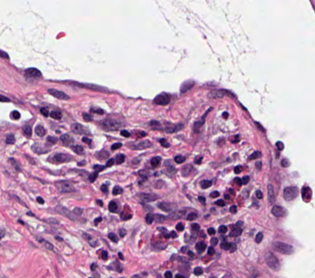nucleus: (101, 118, 123, 130), (48, 88, 69, 99), (55, 206, 73, 218), (51, 153, 71, 163), (283, 186, 297, 200), (130, 140, 151, 149), (83, 233, 97, 246), (153, 93, 169, 104), (56, 182, 73, 192), (208, 89, 229, 97), (25, 68, 41, 78), (71, 123, 87, 133), (32, 143, 48, 153), (39, 238, 53, 249), (138, 193, 157, 201), (301, 186, 311, 201), (164, 124, 182, 132), (60, 134, 73, 145), (193, 118, 203, 132), (271, 206, 285, 216), (181, 81, 193, 92), (267, 184, 274, 202), (158, 202, 171, 211), (35, 125, 45, 136), (150, 156, 160, 167), (181, 164, 191, 175), (49, 110, 61, 119), (96, 150, 108, 159), (72, 145, 83, 154), (230, 227, 241, 236), (108, 201, 117, 211), (248, 151, 259, 159), (93, 165, 105, 172), (115, 154, 124, 163), (166, 164, 175, 173), (108, 233, 117, 242), (174, 155, 184, 163), (201, 180, 211, 188), (154, 214, 164, 222), (90, 107, 103, 113), (120, 212, 131, 219), (40, 107, 48, 116), (159, 139, 168, 147), (281, 158, 289, 167), (89, 172, 97, 181), (112, 186, 121, 194), (145, 214, 153, 223), (149, 120, 159, 127), (255, 232, 262, 242), (221, 242, 231, 249), (83, 113, 91, 121), (73, 207, 81, 215), (218, 225, 226, 233), (47, 136, 56, 143), (187, 213, 196, 220), (111, 143, 121, 149), (231, 135, 239, 142), (276, 141, 283, 149), (105, 159, 113, 166), (241, 176, 248, 184), (155, 180, 163, 187), (194, 156, 201, 163), (234, 166, 241, 173), (234, 177, 241, 184), (94, 217, 101, 224), (176, 223, 183, 230), (192, 223, 199, 230), (121, 130, 129, 136), (82, 137, 90, 143), (101, 184, 107, 192), (256, 190, 262, 198), (210, 191, 218, 197), (234, 221, 242, 227), (136, 131, 145, 136), (215, 200, 224, 205), (198, 196, 204, 203), (230, 205, 236, 212), (207, 228, 214, 234), (210, 238, 217, 244), (222, 112, 228, 118), (37, 197, 43, 203), (170, 231, 176, 237), (120, 229, 125, 236), (97, 200, 102, 205), (256, 162, 260, 168), (165, 234, 169, 237)
